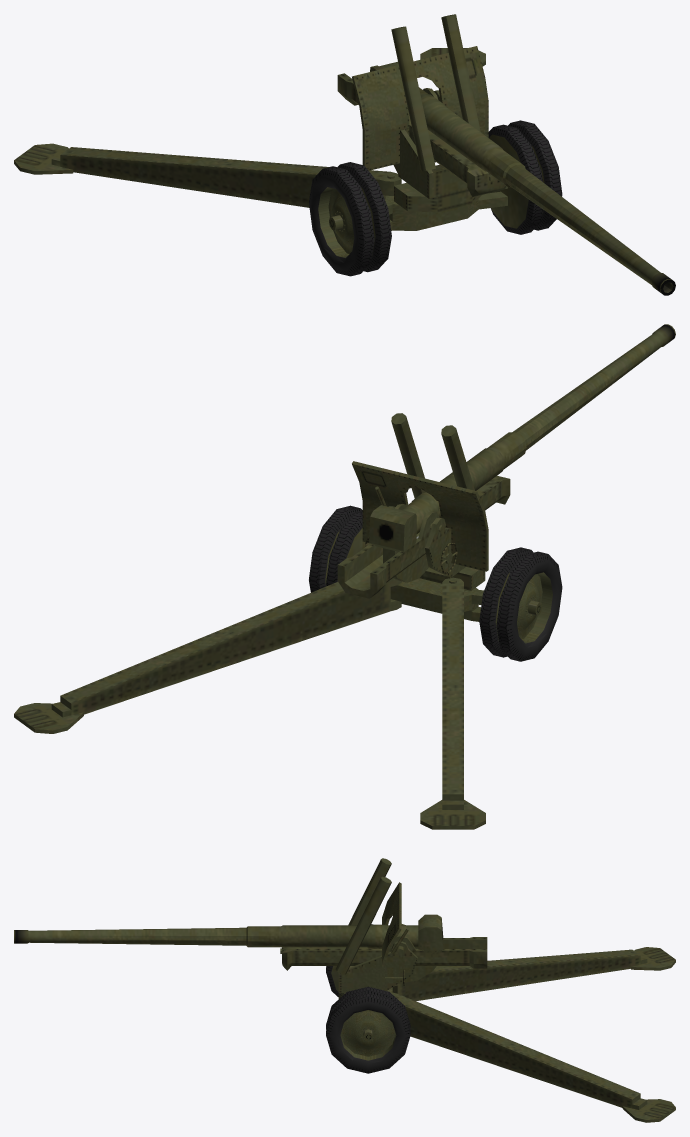
File: RUSA19.dae
3 renders of one model, top to bottom at view 1: azimuth 30°, elevation 25°; view 2: azimuth 150°, elevation 25°; view 3: azimuth 270°, elevation 25°, orthographic. The views are drawn at different scales.
Visible parts, largest first — view 1: turret, wheels, trail2, barrel, sleeve, carriage; view 2: trail1, wheels, turret, barrel, trail2, sleeve, carriage; view 3: trail1, barrel, trail2, wheels, turret, sleeve.
Part boxes in pixels (<box>): turret: <box>352,14,488,212</box>; wheels: <box>308,120,562,276</box>; trail2: <box>14,143,401,207</box>; barrel: <box>370,61,675,295</box>; sleeve: <box>337,65,506,196</box>; carriage: <box>385,174,507,230</box>; trail1: <box>14,578,401,733</box>; wheels: <box>309,505,562,661</box>; turret: <box>352,413,488,590</box>; barrel: <box>369,324,675,563</box>; trail2: <box>420,577,485,829</box>; sleeve: <box>337,475,510,598</box>; carriage: <box>390,578,483,621</box>; trail1: <box>390,992,675,1122</box>; barrel: <box>14,914,443,952</box>; trail2: <box>392,947,675,1001</box>; wheels: <box>326,924,410,1073</box>; turret: <box>335,858,417,998</box>; sleeve: <box>280,924,487,983</box>.
Bounding box in the file's own units: 45.7 × 73.85 × 20.73.
